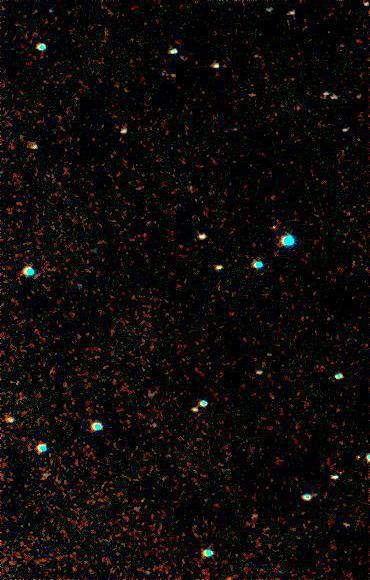star: (327, 26, 357, 56)
